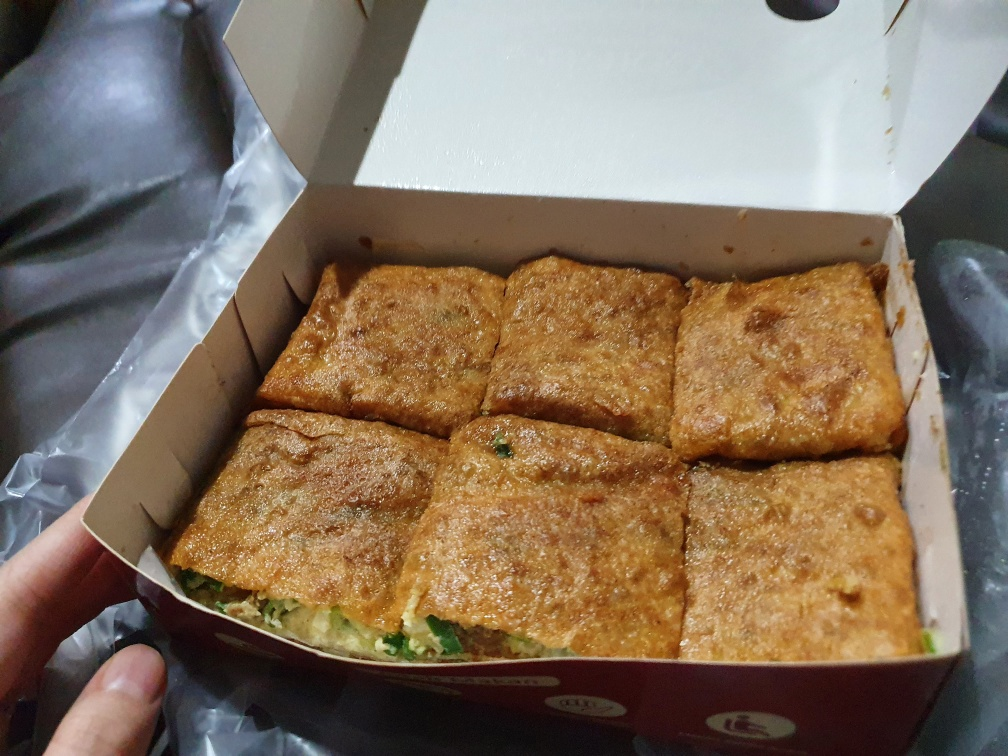martabak telor: (427, 400, 691, 671), (160, 406, 432, 638), (670, 449, 911, 675), (669, 264, 895, 462), (263, 248, 498, 435), (494, 247, 684, 447)
